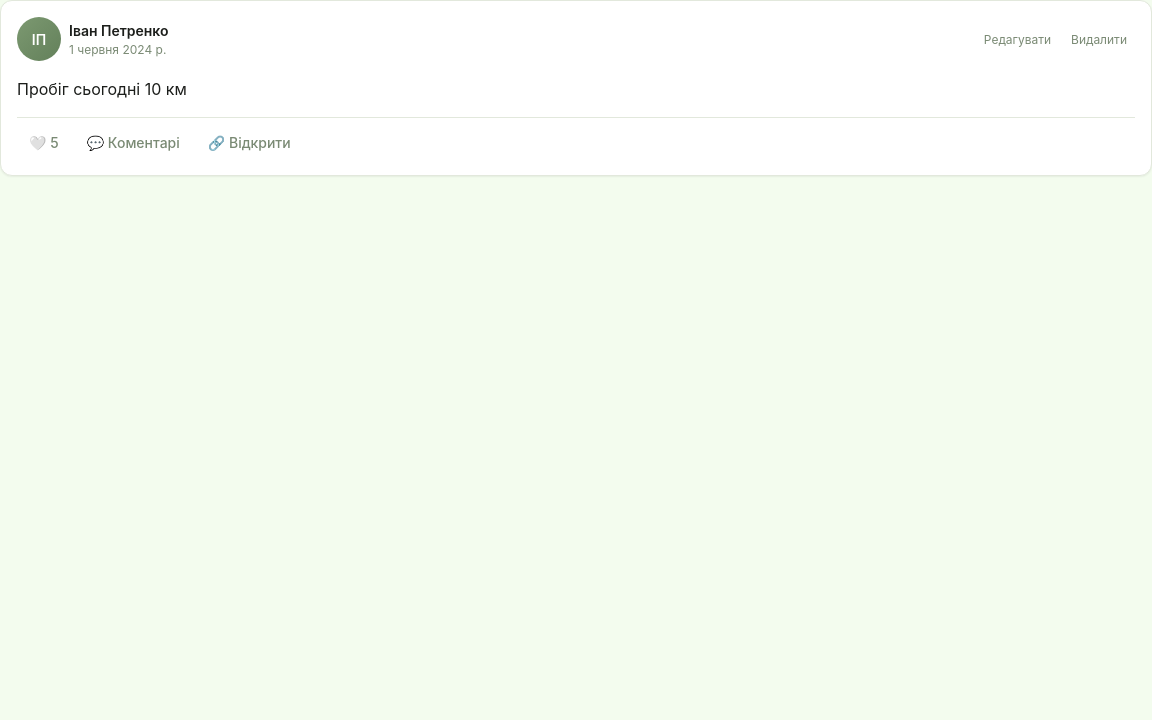
PostCard › відкриває підтвердження перед видаленням
Click the button "Видалити": (1099, 39) [1063, 28, 1135, 50]
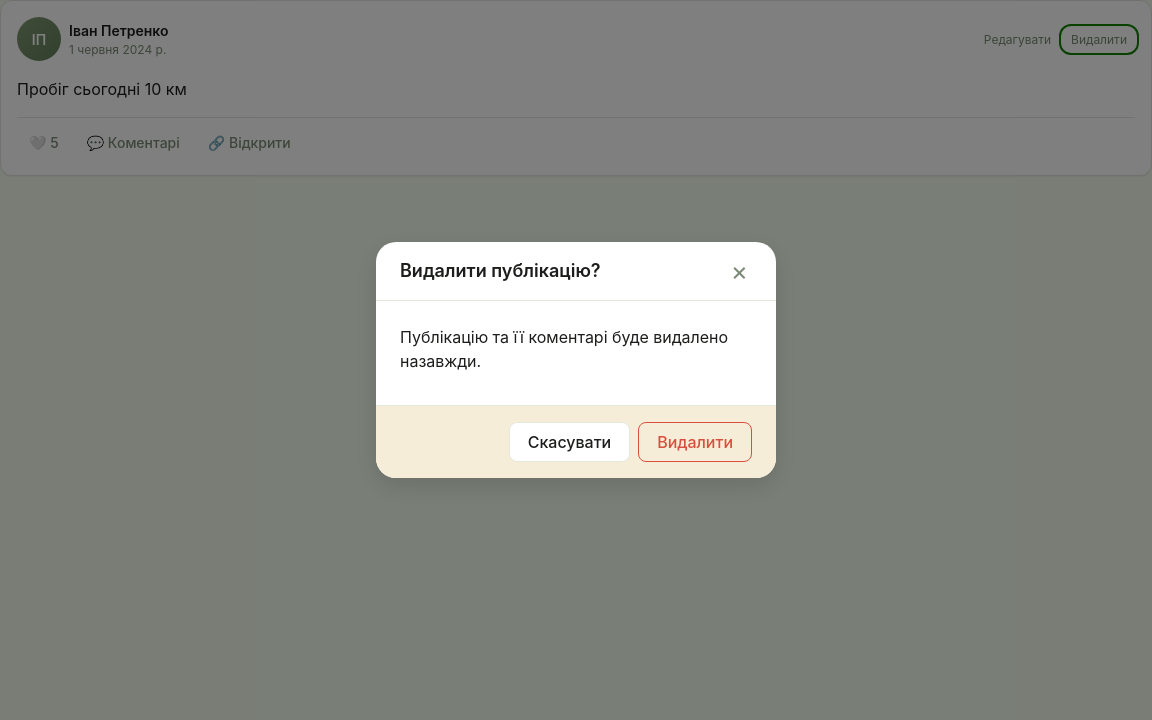
expect the dialog "Видалити публікацію?" is shown: met, box [376, 242, 776, 478]
